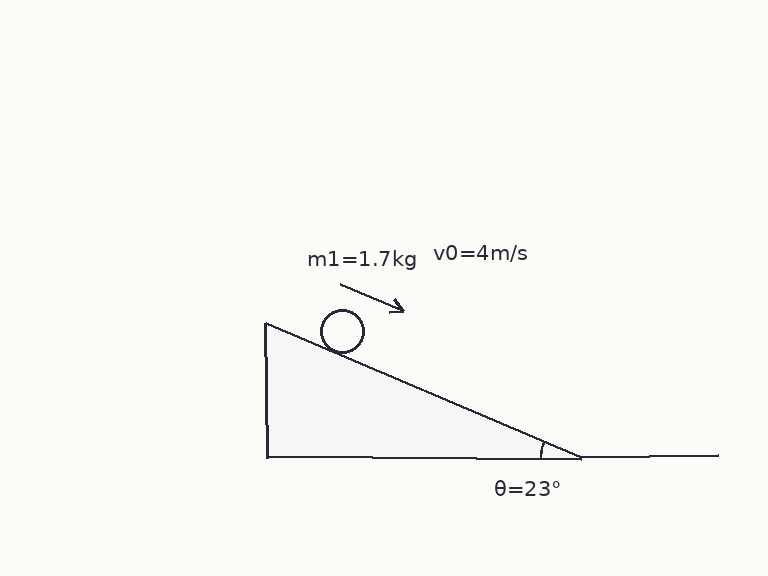ball: (318, 307, 366, 355)
ramp: (263, 321, 583, 459)
